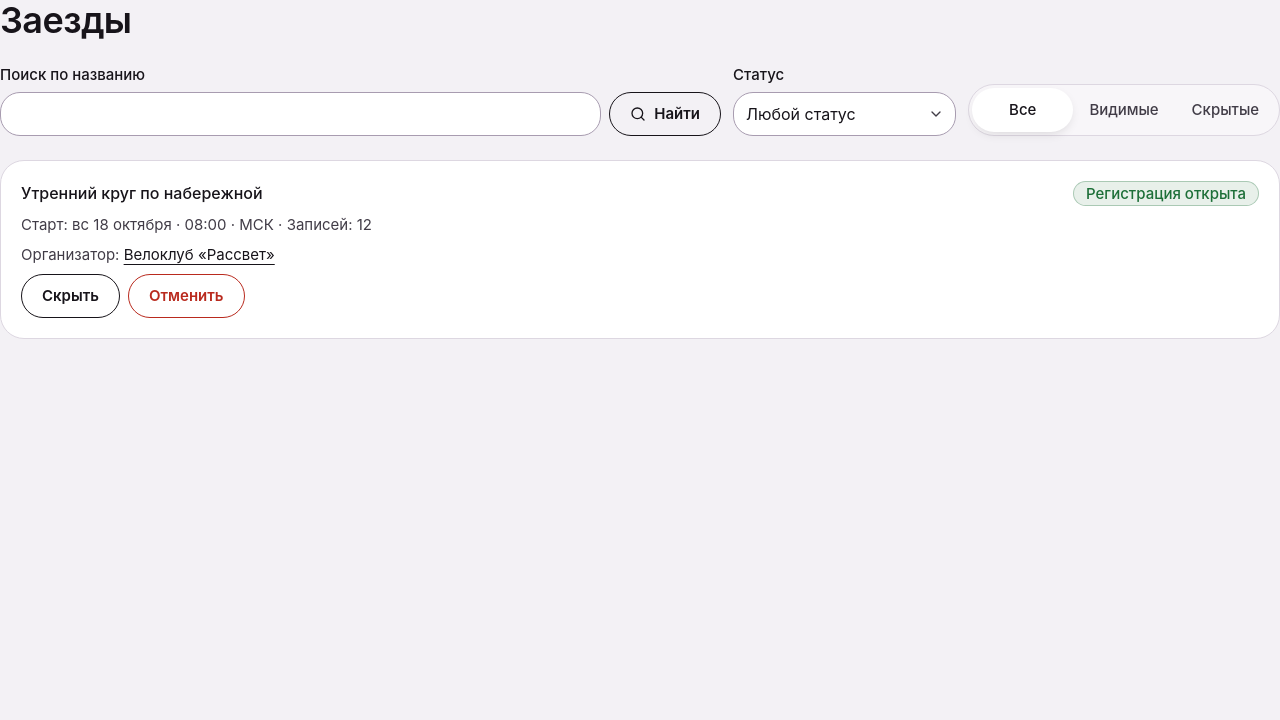
AdminRidesList › hides a ride with a reason and unhides it
Click the button "Скрыть" at (70, 296), box [21,274,120,318]
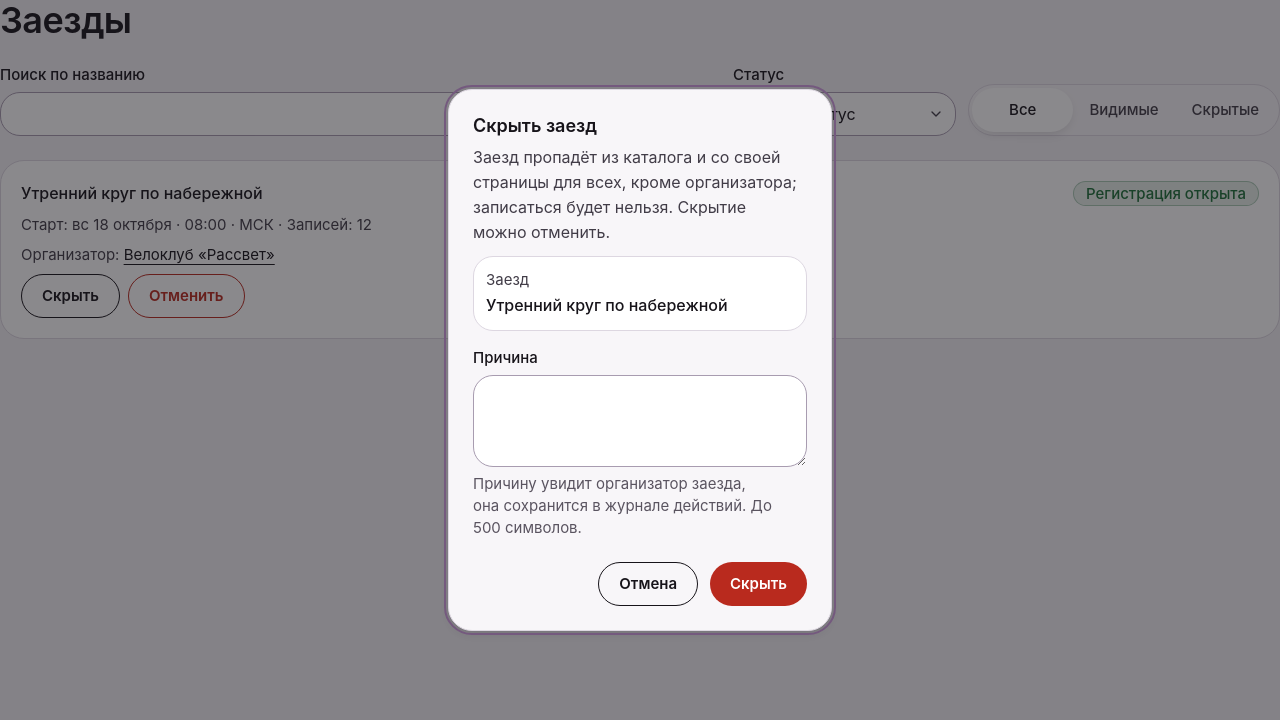
Type "Реклама" into the text box labelled "Причина" at (640, 421), box [473,375,807,467]
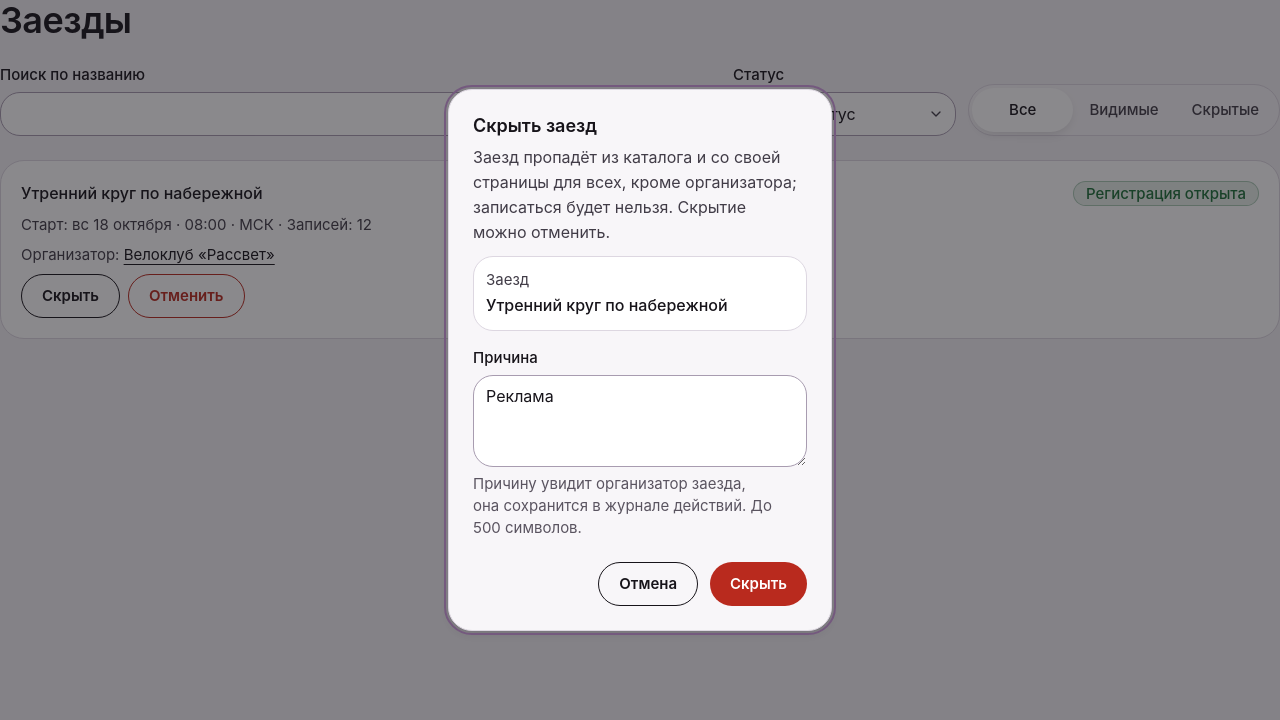
Click the button "Скрыть" at (758, 584), box [710,562,807,606]
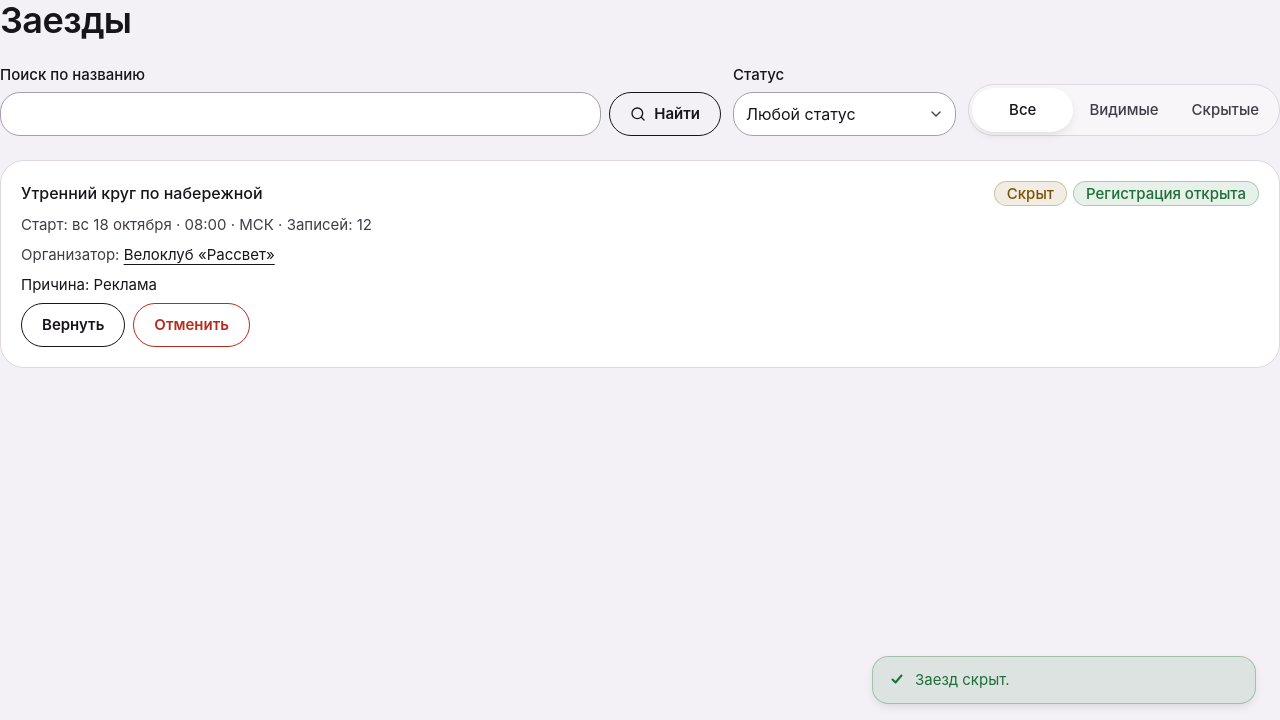
Expected: the text "Скрыт" is shown, [994,181,1067,206]
Expected: the text "Заезд скрыт." is shown, [915,669,1010,691]
Click the button "Вернуть" at (73, 325), box [21,303,125,347]
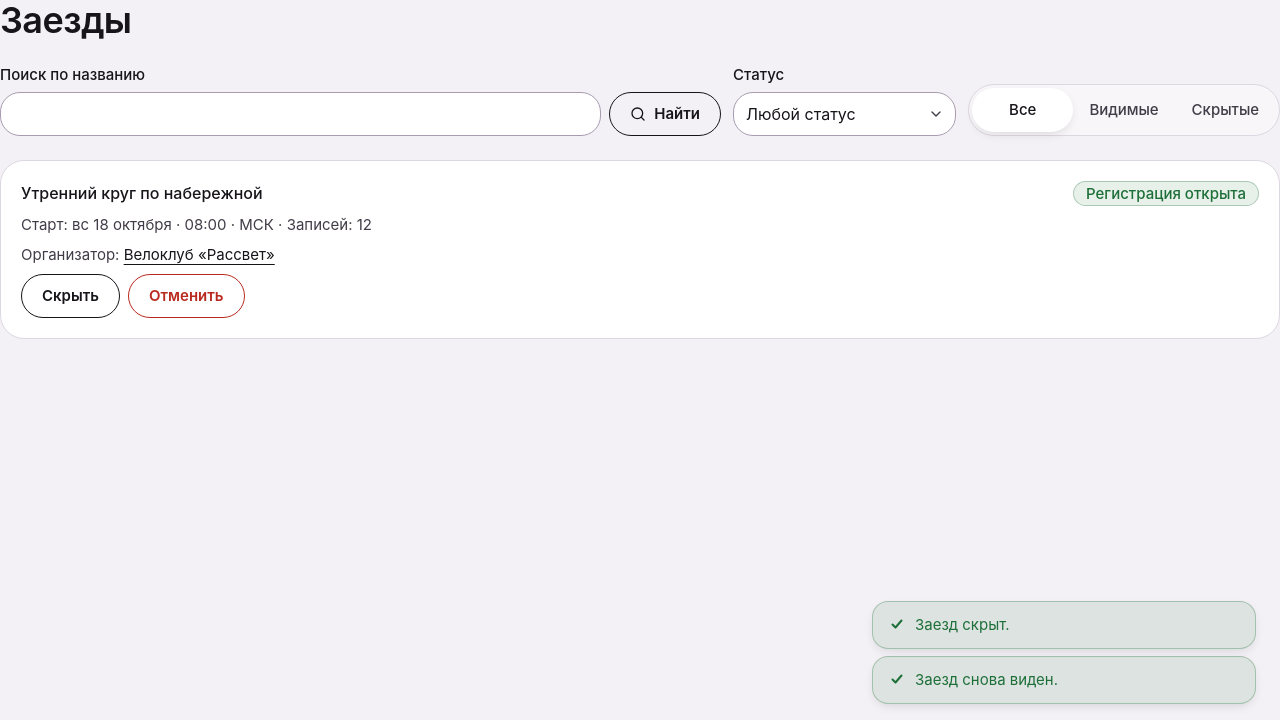
Expected: the text "Заезд снова виден." is shown, [915,669,1058,691]
